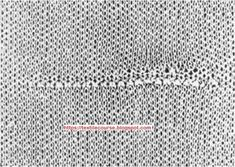Hole: (20, 59, 216, 96)
